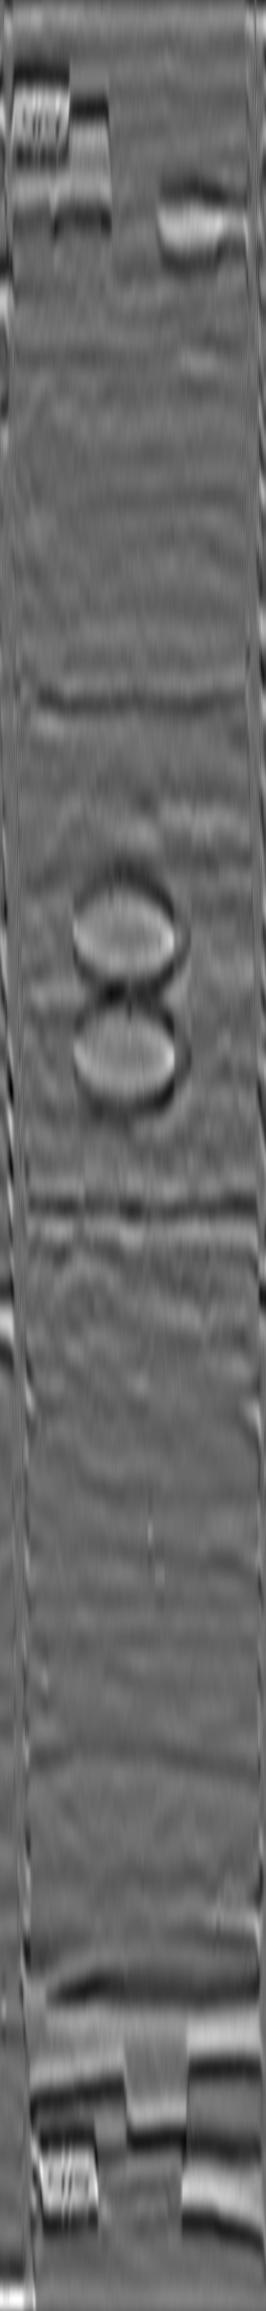hplug: (148, 187, 236, 265), (166, 2144, 229, 2223)
scal: (66, 996, 197, 1119), (65, 881, 194, 996)
vplug: (35, 94, 123, 248), (109, 2006, 199, 2147)
